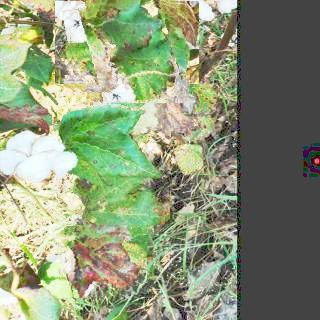blight: (53, 98, 171, 225), (66, 0, 186, 103), (56, 212, 147, 299)
